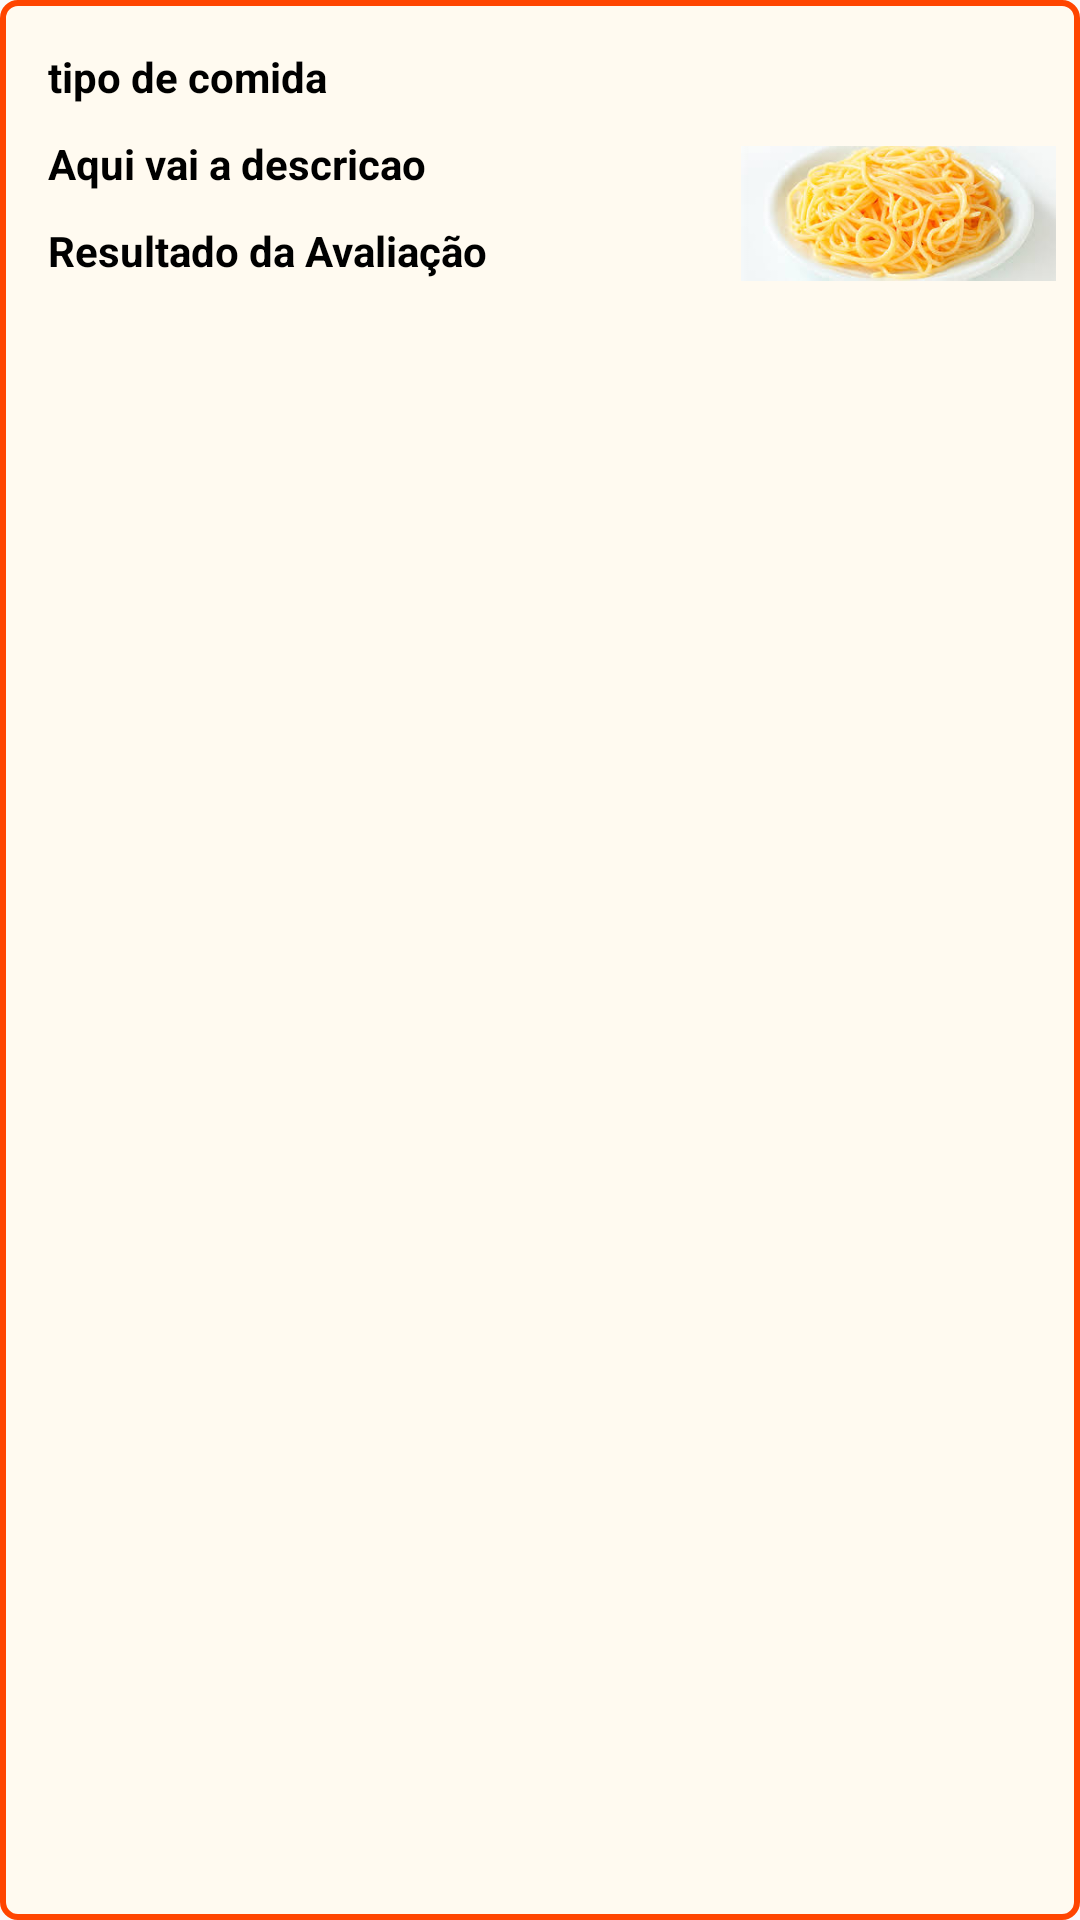

Icons on this 1080w x 1920h Android screen, each with its box as (x1, y1, x2, y2):
macarrao: (772, 146, 1056, 281)
